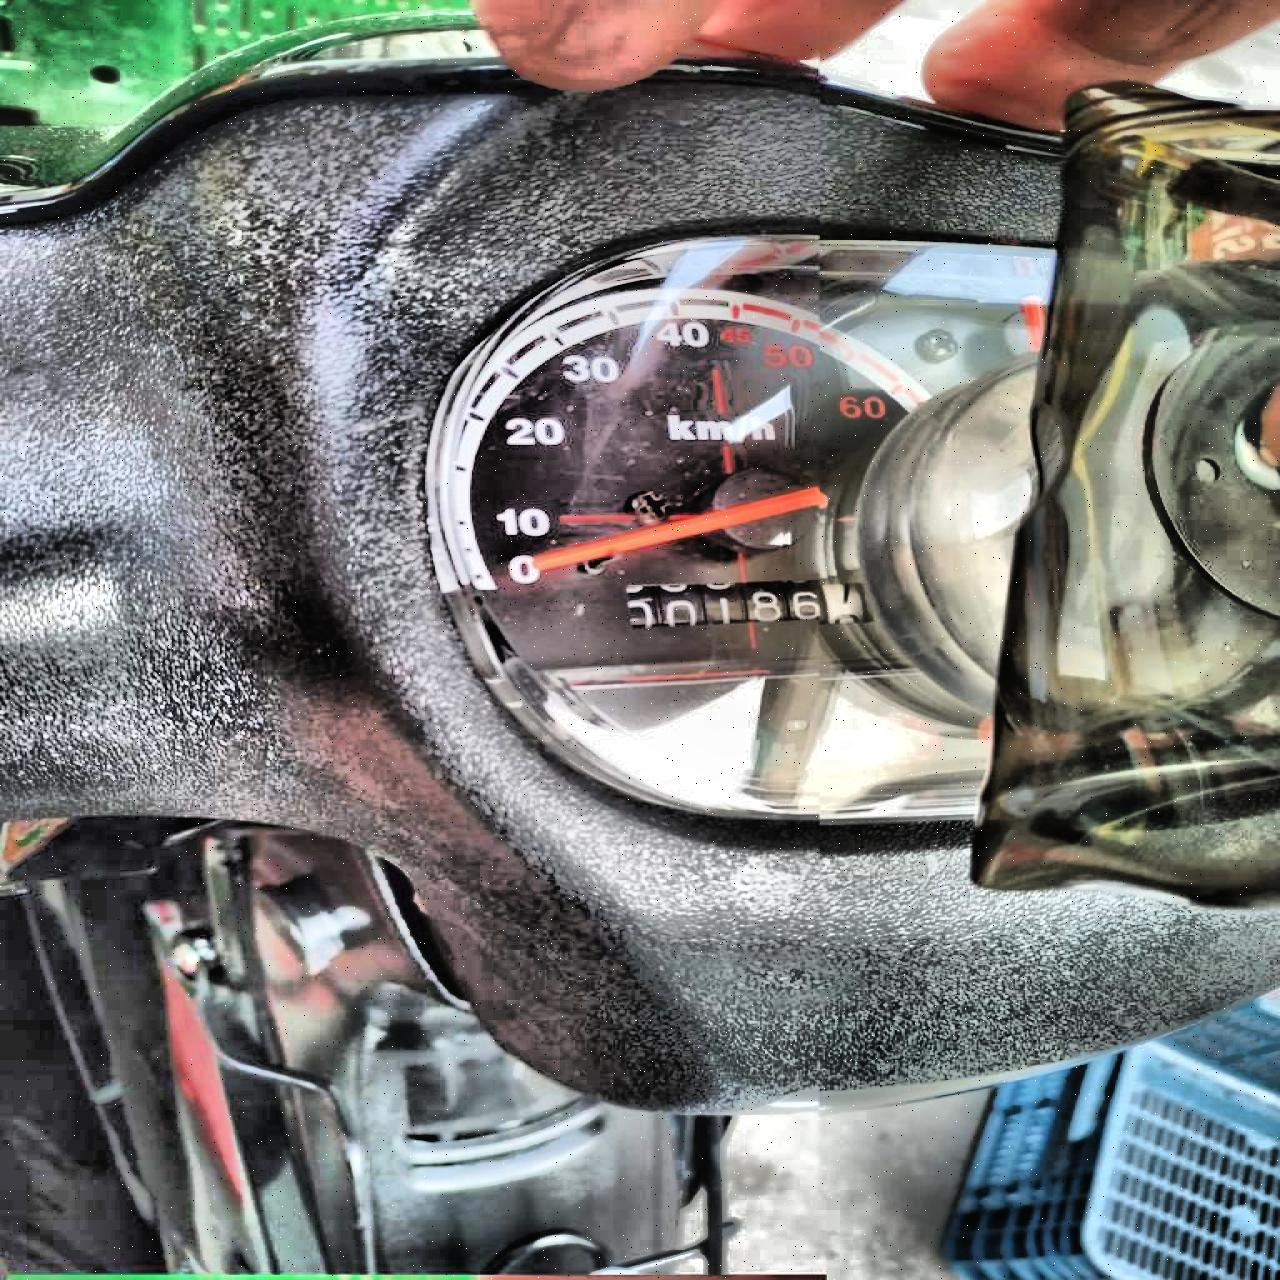0: (665, 599, 699, 632), (621, 600, 653, 634)
1: (715, 595, 730, 626)
6: (790, 590, 821, 620)
7: (823, 576, 852, 606)
8: (750, 590, 782, 621)
odometer: (620, 578, 872, 628)
